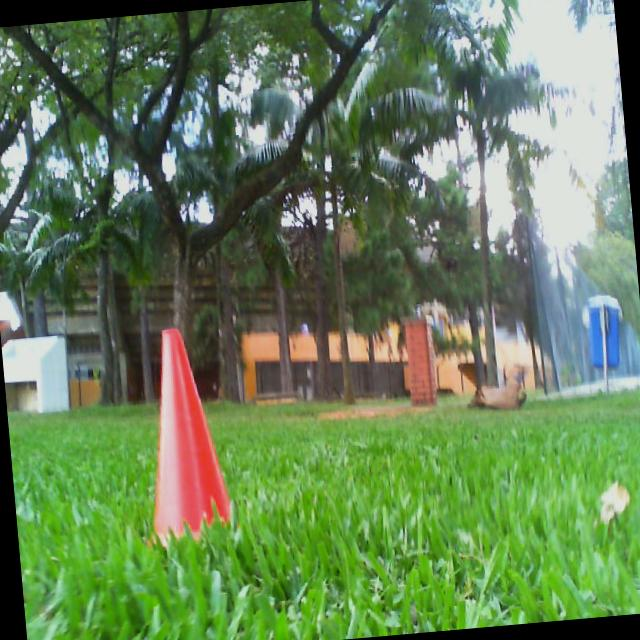cone: (133, 322, 234, 548)
